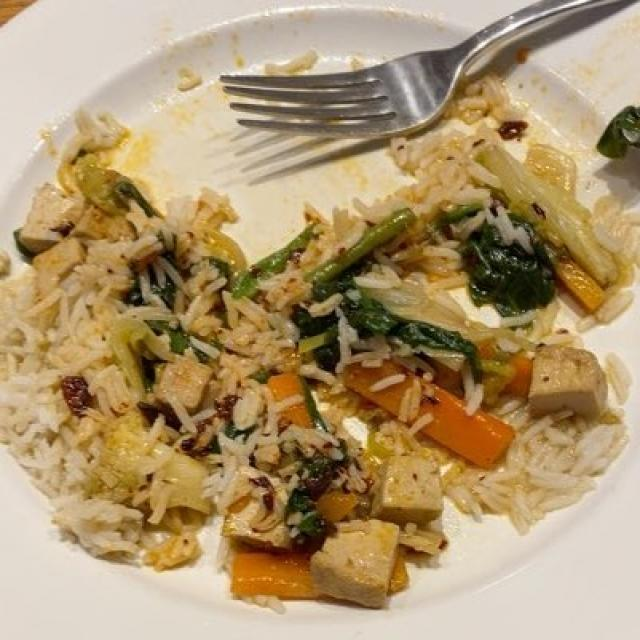curry-vegetarian: (66, 161, 608, 615)
rice: (18, 76, 626, 588)
tofu: (314, 350, 606, 609)
